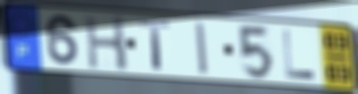5: (236, 24, 276, 81)
6: (45, 13, 81, 67)
H: (82, 14, 131, 74)
I: (193, 20, 212, 77)
L: (280, 28, 319, 81)
T: (137, 19, 174, 72)
